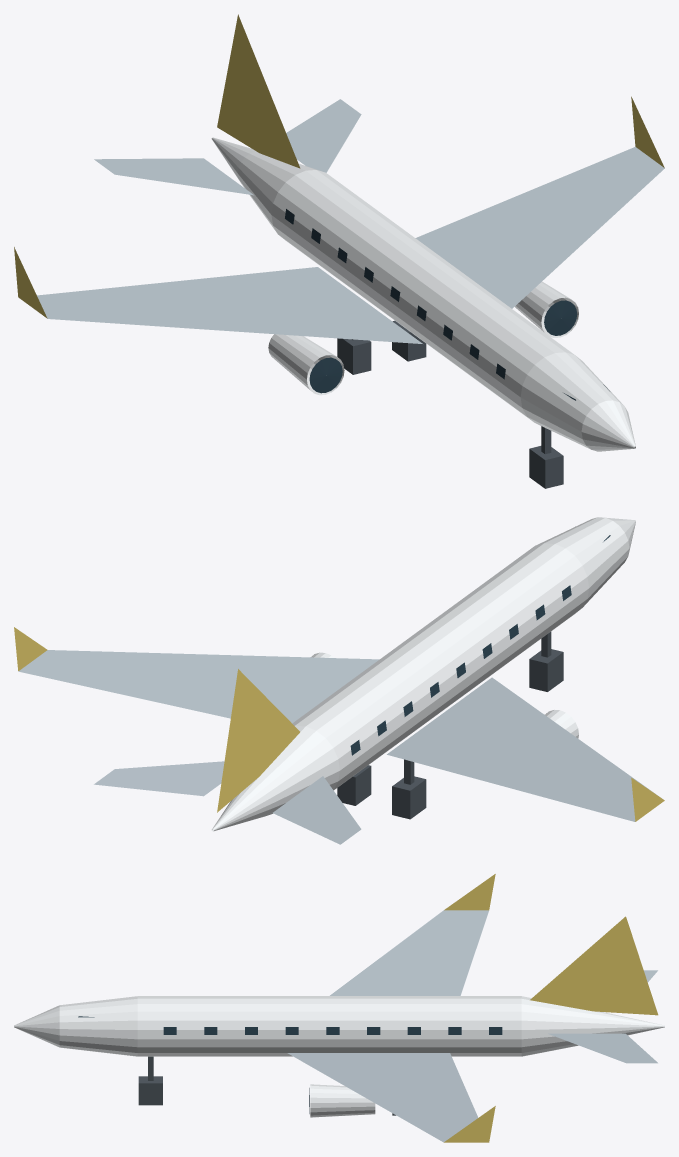
The model's file is regional-DLH.gltf.
3 views of the same model, one above another, from view 1: azimuth 30°, elevation 25°; view 2: azimuth 150°, elevation 25°; view 3: azimuth 270°, elevation 25° (orthographic). The views are drawn at different scales.
Visible parts, largest first — view 1: object 1, Gear; view 2: object 1, Gear; view 3: object 1, Gear.
Boxes of the visible parts, x1=… form: object 1: x1=14, y1=14, x2=664, y2=451; Gear: x1=337, y1=320, x2=563, y2=488; object 1: x1=14, y1=517, x2=664, y2=844; Gear: x1=337, y1=631, x2=563, y2=819; object 1: x1=14, y1=874, x2=664, y2=1142; Gear: x1=138, y1=1056, x2=395, y2=1115.
Size of the model in its own units: 27 by 10.08 by 32.
